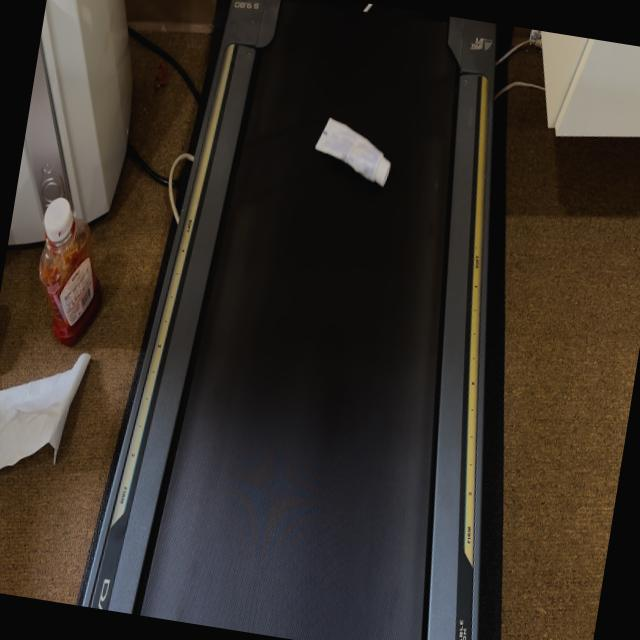Trash: (307, 112, 399, 192)
